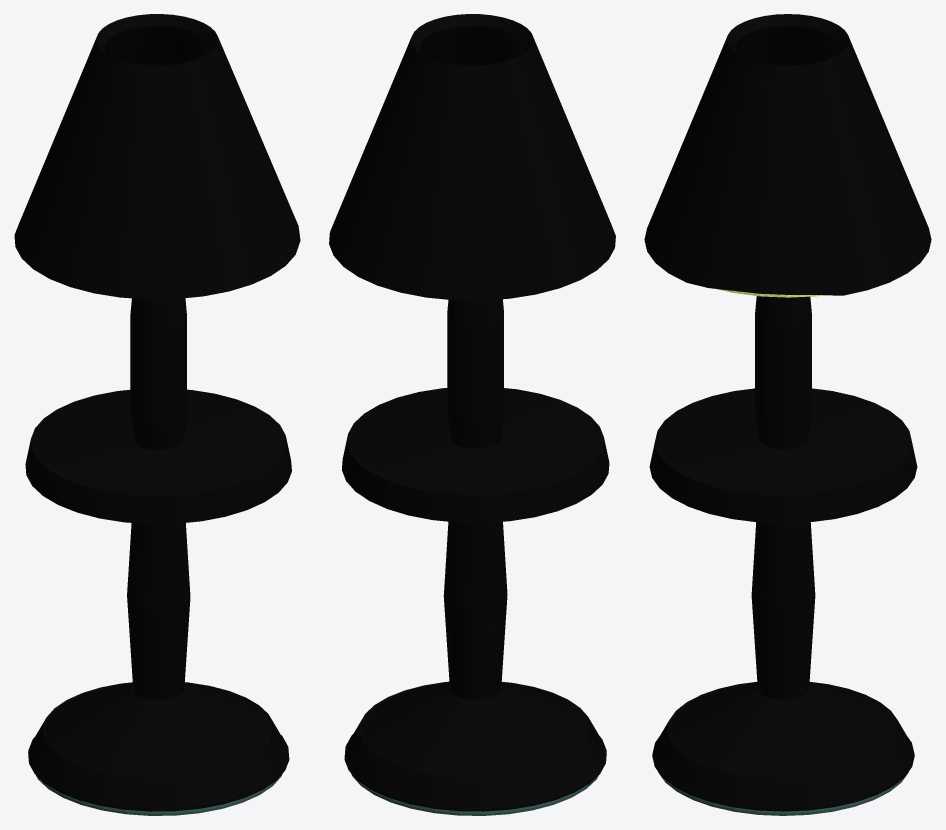
The model's file is Lampara.obj.
The picture shows the model from 3 angles, left to right: view 1: azimuth 30°, elevation 25°; view 2: azimuth 150°, elevation 25°; view 3: azimuth 270°, elevation 25°; orthographic projection.
Parts seen in each view (by area): view 1: Lampara, LamparaA; view 2: Lampara, LamparaA; view 3: Lampara, LamparaA.
Part boxes in pixels (x1,y1,x2,y2): Lampara: [25, 298, 291, 815]; LamparaA: [14, 14, 300, 299]; Lampara: [342, 299, 609, 815]; LamparaA: [329, 14, 615, 300]; Lampara: [649, 296, 917, 815]; LamparaA: [644, 14, 931, 297].
Size of the model in its own units: 1.27 by 3.55 by 1.28.
4 materials, 4 textured.
